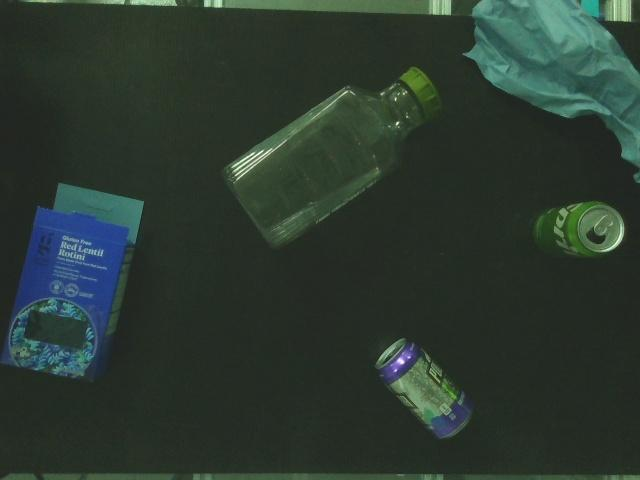cardboard: (0, 178, 146, 388)
metal: (372, 327, 478, 444), (530, 198, 628, 266)
paper: (462, 0, 640, 188)
plastic: (220, 64, 450, 255)
